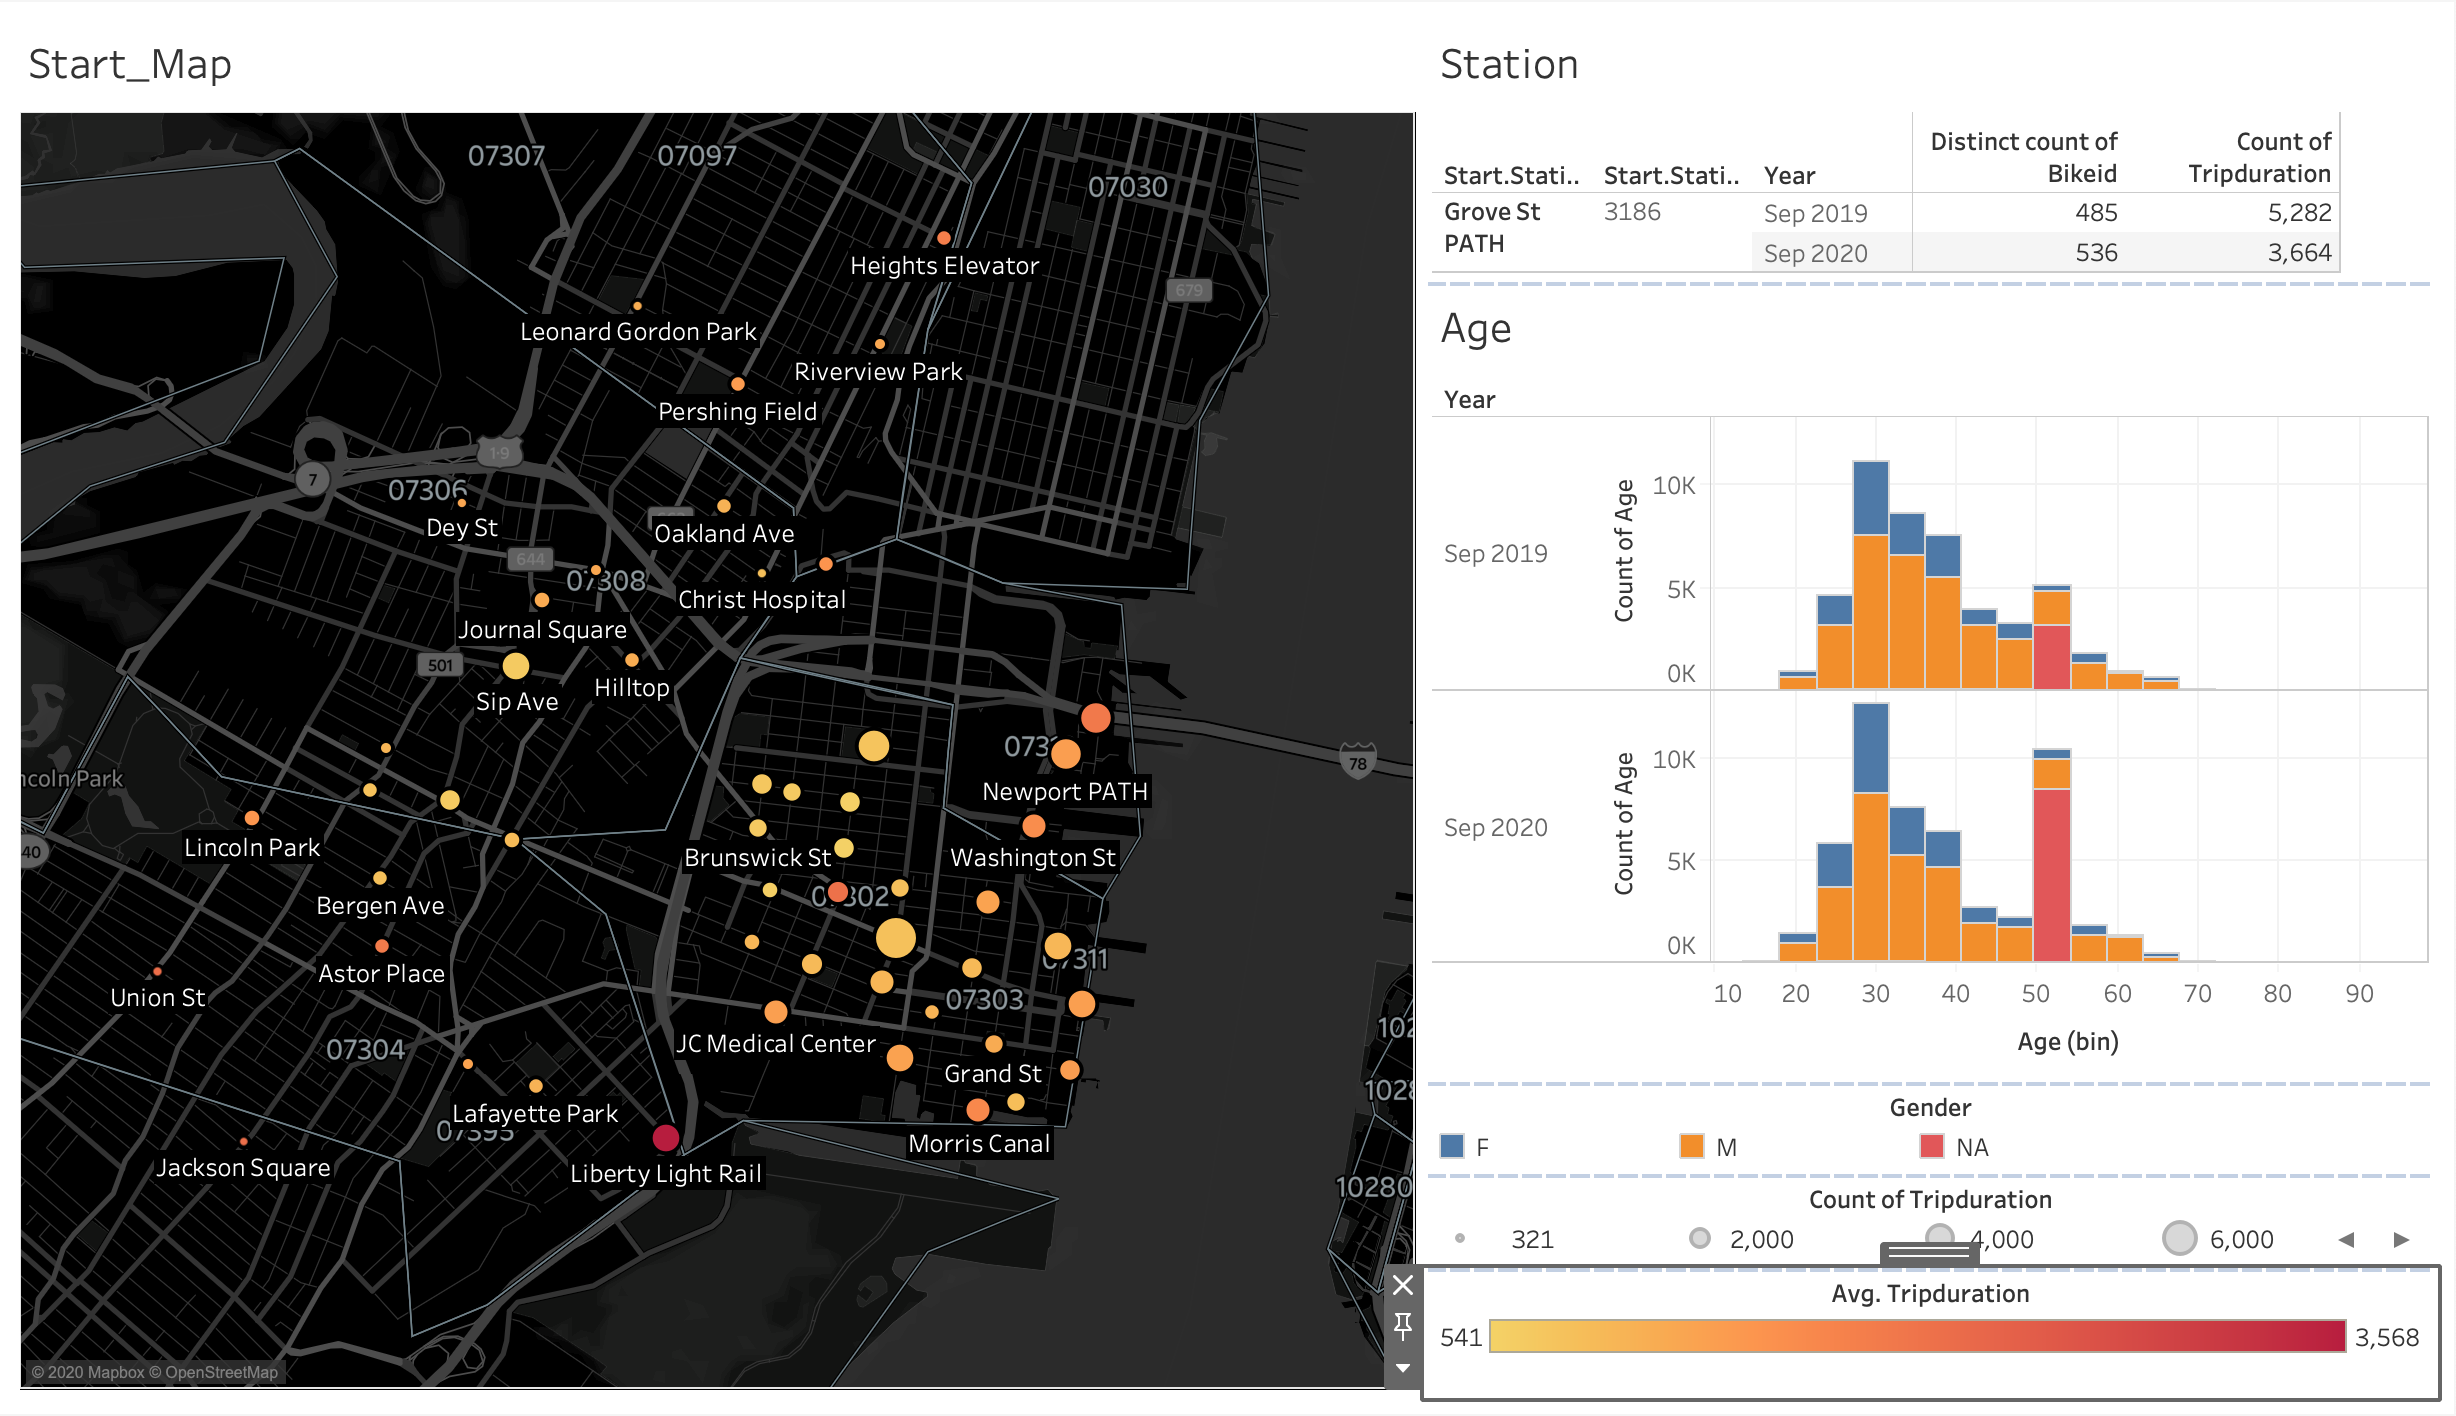

The page's visual inventory and layout, read from the dashboard file:
{"tool":"tableau","page":{"name":"DB_3","canvas":[1000,1000],"units":"permille","ordinal":2},"visuals":[{"type":"worksheet","box":[0,0,1000,1000]},{"type":"worksheet","param":"horz","box":[6.5,11.3,987,977.3]},{"type":"worksheet","box":[6.5,11.3,574.5,977.3]},{"type":"worksheet","title":"Start_Map","mark":"Automatic","rows":["start.station.latitude"],"cols":["start.station.longitude"],"box":[6.5,11.3,574.5,977.3]},{"type":"worksheet","param":"vert","box":[581,11.3,412.5,977.3]},{"type":"worksheet","title":"Station","mark":"Automatic","rows":["start.station.name","start.station.id","year"],"box":[581,11.3,412.5,187]},{"type":"worksheet","title":"Age","mark":"Automatic","rows":["year","age"],"cols":["Age (bin)"],"box":[581,198.3,412.5,566.6]},{"type":"worksheet","title":"Age","mark":"Automatic","rows":["year","age"],"cols":["Age (bin)"],"param":"[federated.0axtsh30ud2oz713ihg7k1uitwuh].[none:gender:nk]","box":[581,764.9,412.5,65.2]},{"type":"worksheet","title":"Start_Map","mark":"Automatic","rows":["start.station.latitude"],"cols":["start.station.longitude"],"param":"[federated.0axtsh30ud2oz713ihg7k1uitwuh].[cnt:tripduration:qk]","box":[581,830,412.5,66.6]},{"type":"worksheet","title":"Start_Map","mark":"Automatic","rows":["start.station.latitude"],"cols":["start.station.longitude"],"param":"[federated.0axtsh30ud2oz713ihg7k1uitwuh].[avg:tripduration:qk]","box":[581,896.6,412.5,92.1]}]}

Visuals, with their boxes on the dashboard's canvas, which has no fixed pixel size, in thousandths of its width and height (x1, y1, x2, y2). These are canvas units, not pixel positions in the 2456x1416 screenshot, which may show the page scaled, cropped or inside an application window:
worksheet: bbox=(0, 0, 1000, 1000)
worksheet: bbox=(6, 11, 994, 989)
worksheet: bbox=(6, 11, 581, 989)
"Start_Map" worksheet: bbox=(6, 11, 581, 989)
worksheet: bbox=(581, 11, 994, 989)
"Station" worksheet: bbox=(581, 11, 994, 198)
"Age" worksheet: bbox=(581, 198, 994, 765)
"Age" worksheet: bbox=(581, 765, 994, 830)
"Start_Map" worksheet: bbox=(581, 830, 994, 897)
"Start_Map" worksheet: bbox=(581, 897, 994, 989)
